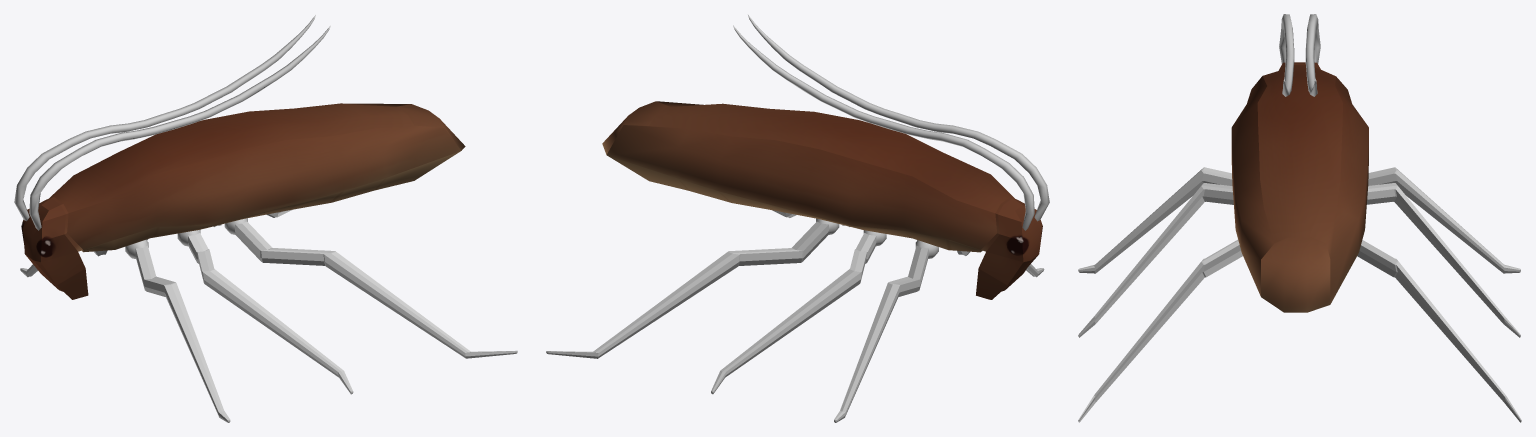
Rendered from kakkerlak.FBX.
3 views of the same model, side by side, from view 1: azimuth 30°, elevation 25°; view 2: azimuth 150°, elevation 25°; view 3: azimuth 270°, elevation 25° (orthographic). The views are drawn at different scales.
Visible parts, largest first — view 1: body, linker achterbeen, linker middenbeen, linker antenne, rechter antenne, linker voorbeen; view 2: body, rechter achterbeen, rechter middenbeen, rechter antenne, linker antenne, rechter voorbeen; view 3: body, linker achterbeen, rechter achterbeen, linker middenbeen, rechter middenbeen, linker voorbeen, rechter voorbeen, linker antenne, rechter antenne.
Part boxes in pixels (bbox=[...]): body: bbox=[21, 103, 465, 299]; linker achterbeen: bbox=[224, 218, 517, 358]; linker middenbeen: bbox=[177, 229, 353, 394]; linker antenne: bbox=[29, 25, 330, 230]; rechter antenne: bbox=[14, 15, 315, 221]; linker voorbeen: bbox=[125, 240, 230, 422]; body: bbox=[602, 101, 1042, 299]; rechter achterbeen: bbox=[546, 218, 839, 358]; rechter middenbeen: bbox=[711, 230, 886, 394]; rechter antenne: bbox=[733, 25, 1034, 230]; linker antenne: bbox=[748, 15, 1049, 221]; rechter voorbeen: bbox=[834, 240, 938, 422]; body: bbox=[1231, 62, 1368, 312]; linker achterbeen: bbox=[1078, 239, 1242, 422]; rechter achterbeen: bbox=[1357, 240, 1521, 422]; linker middenbeen: bbox=[1078, 183, 1233, 337]; rechter middenbeen: bbox=[1367, 183, 1520, 337]; linker voorbeen: bbox=[1078, 167, 1232, 273]; rechter voorbeen: bbox=[1368, 167, 1520, 273]; linker antenne: bbox=[1279, 14, 1294, 96]; rechter antenne: bbox=[1305, 14, 1320, 96].
Size of the model in its own units: 175 by 108 by 145.
